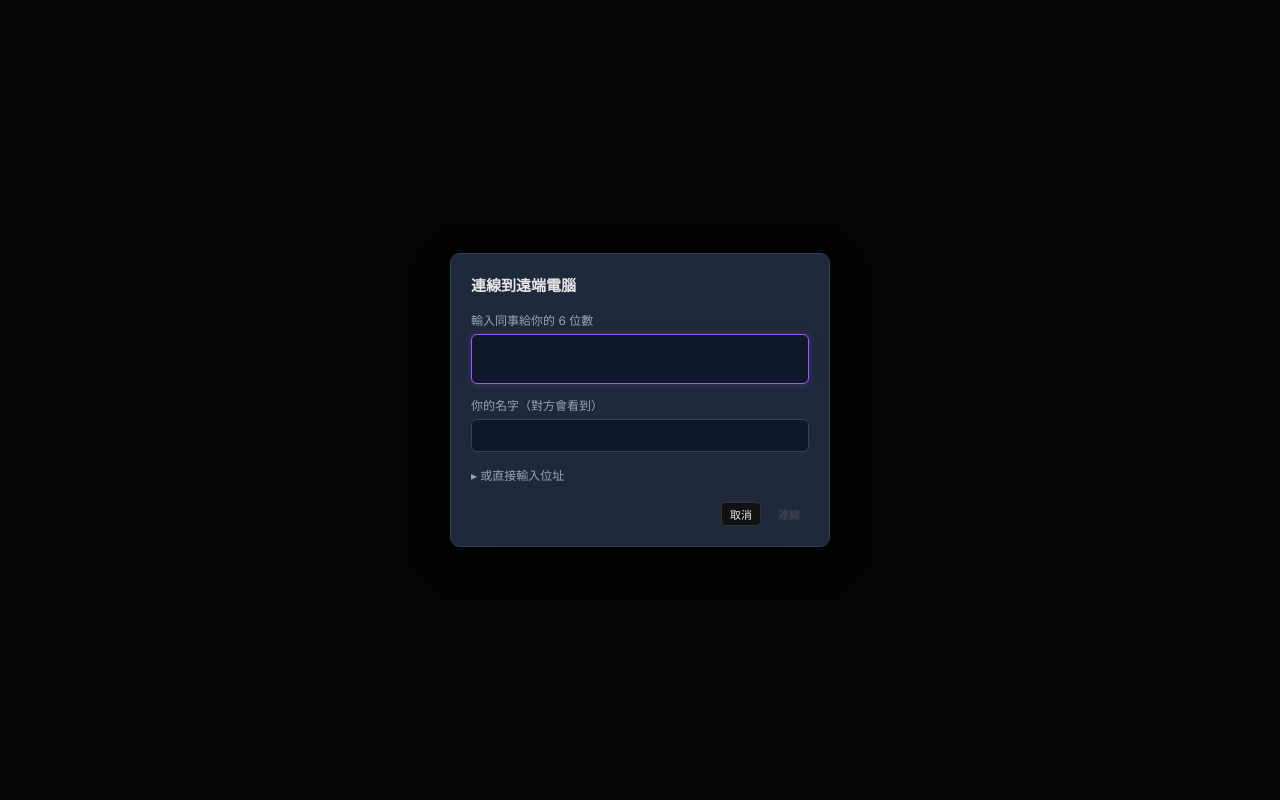
Scenario: ConnectDialog › falls back to the manual address field when mDNS finds nothing
Type "632706" into the field labelled "輸入同事給你的 6 位數". click: (640, 359)
box: [471,334,809,384]
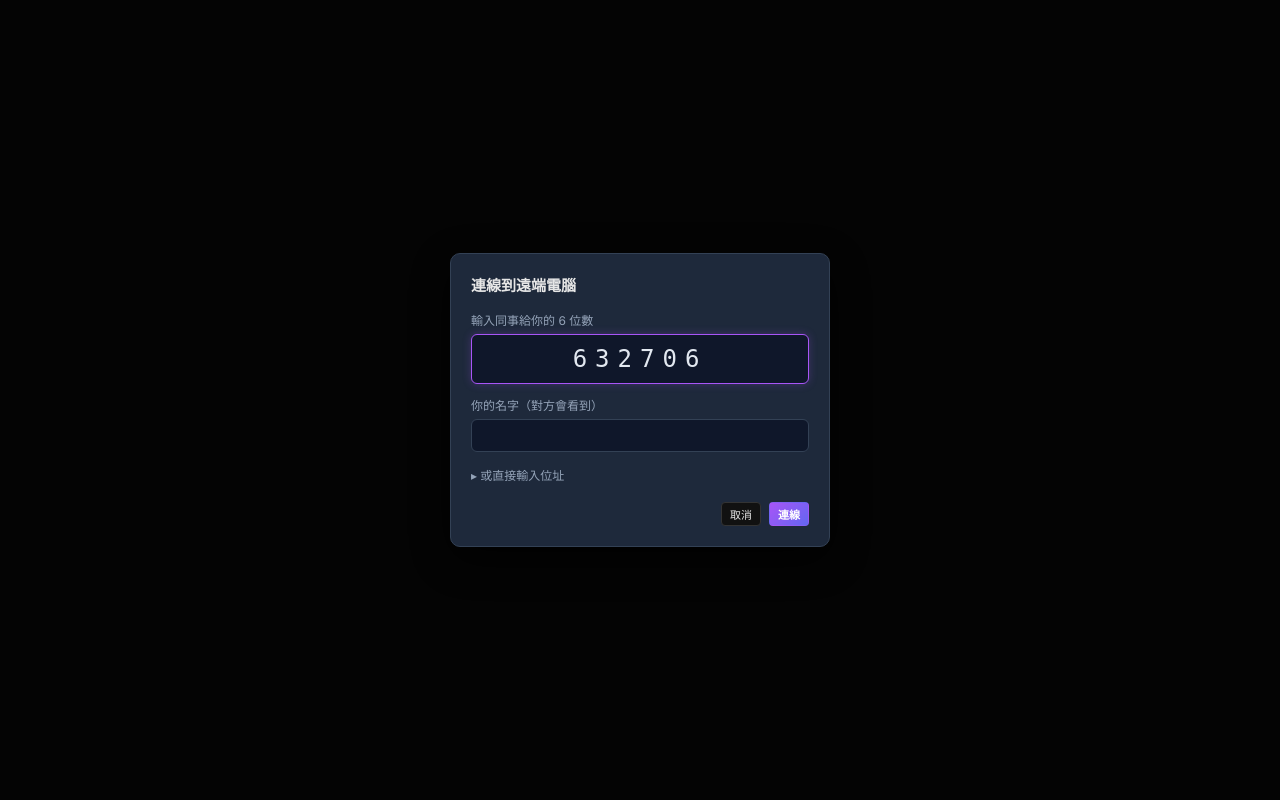
Click the button "連線". click: (789, 514)
box: [769,502,809,526]
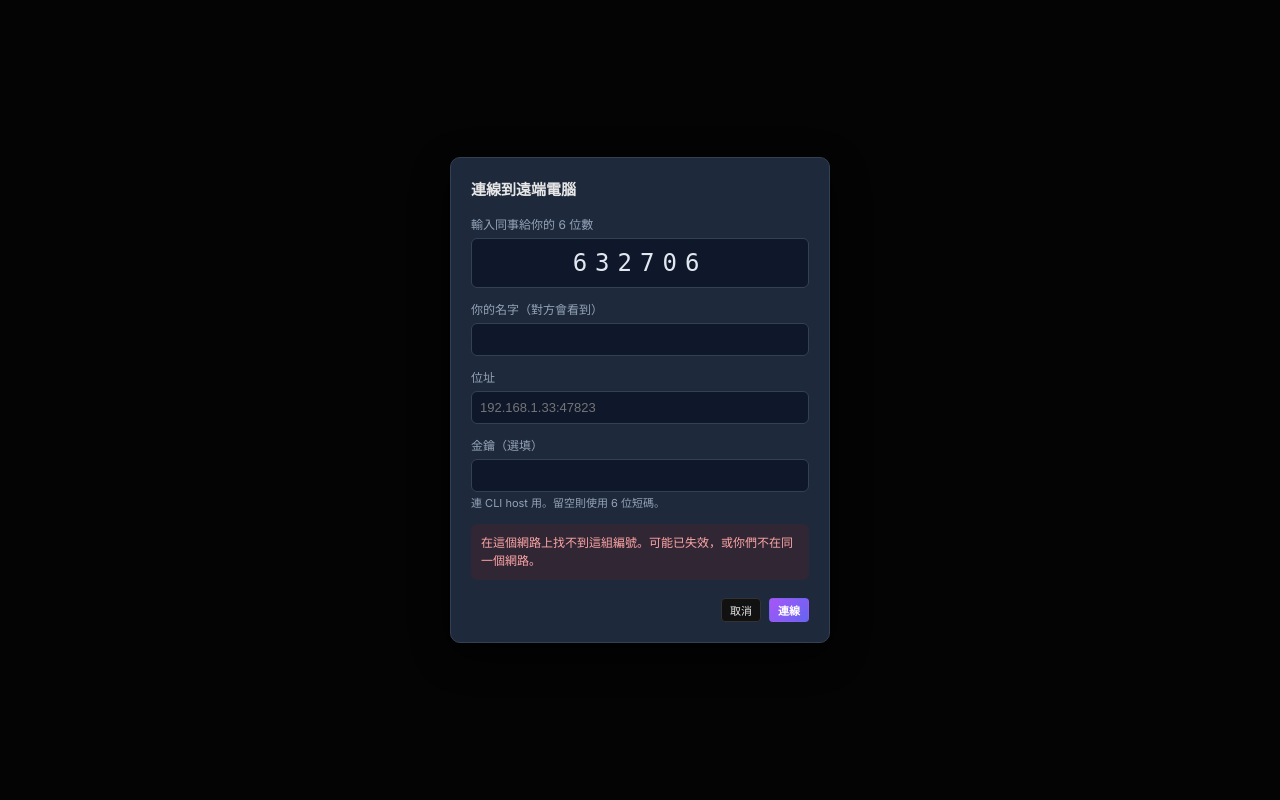
Result: the text "在這個網路上找不到這組編號。可能已失效，或你們不在同一個網路。" is shown at [471,524,809,580]
Result: the field with placeholder "192.168.1.33:47823" is shown at [471,391,809,424]
